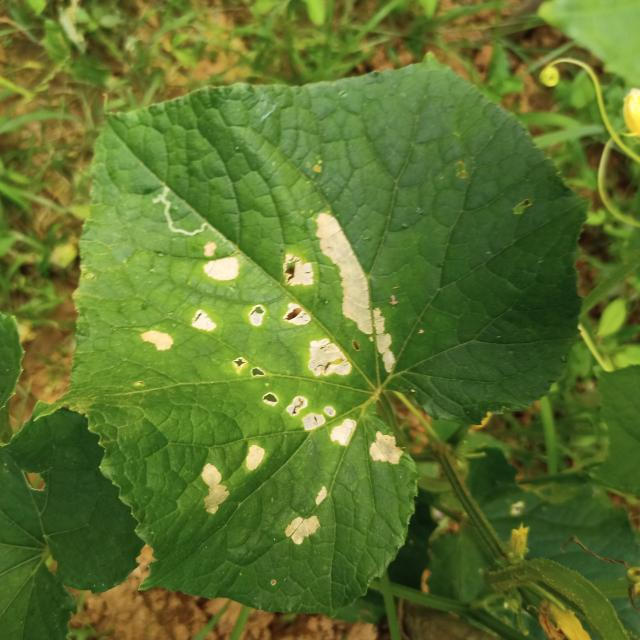disease_cucumber: (142, 212, 406, 472), (200, 444, 269, 516), (284, 484, 329, 548)
